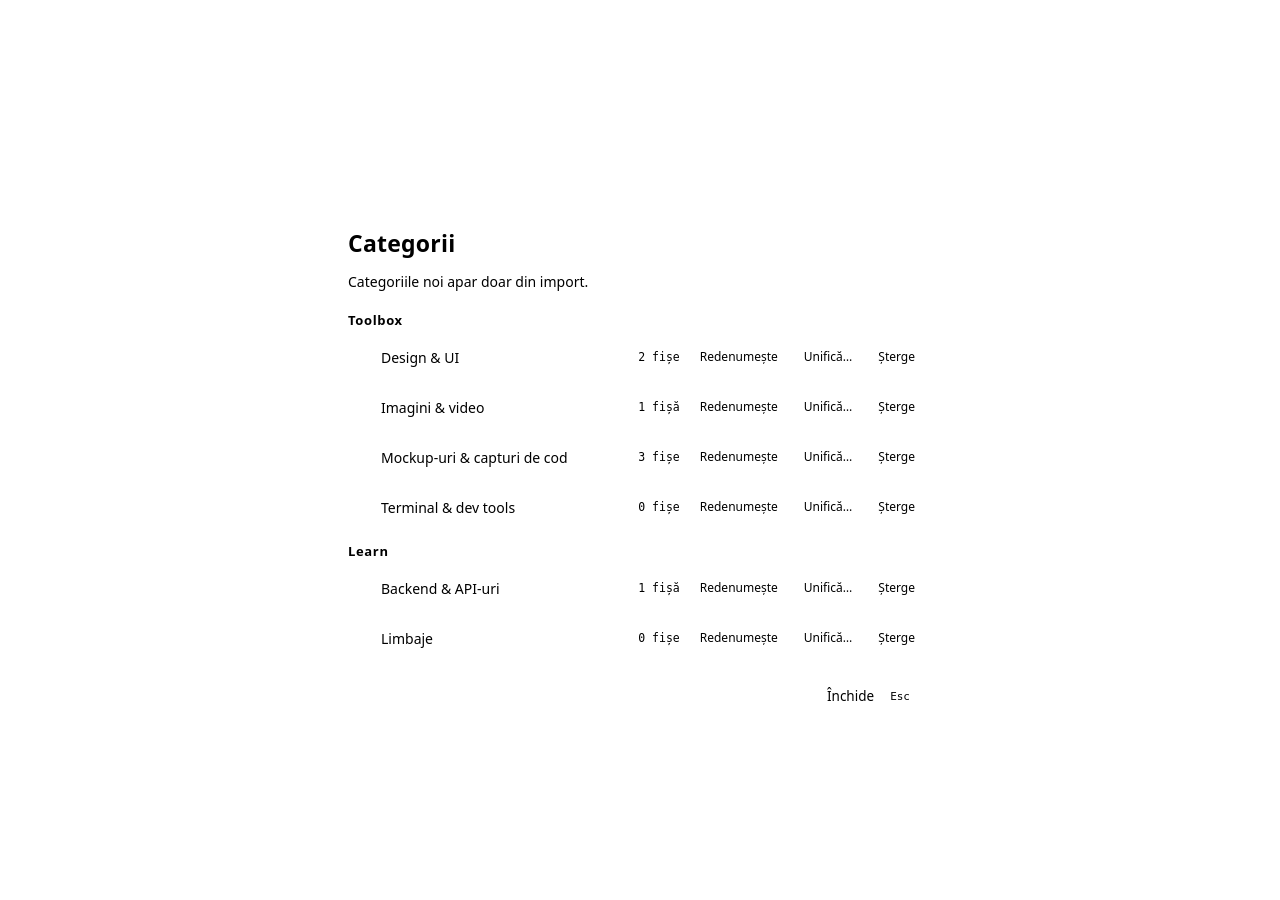
Scenario: CategoryManager: renaming in place › saves with Enter and returns the focus to „Redenumește”
Click the button "Redenumește" in the row of "Mockup-uri & capturi de cod". click: (739, 457)
box: [690,443,788,471]
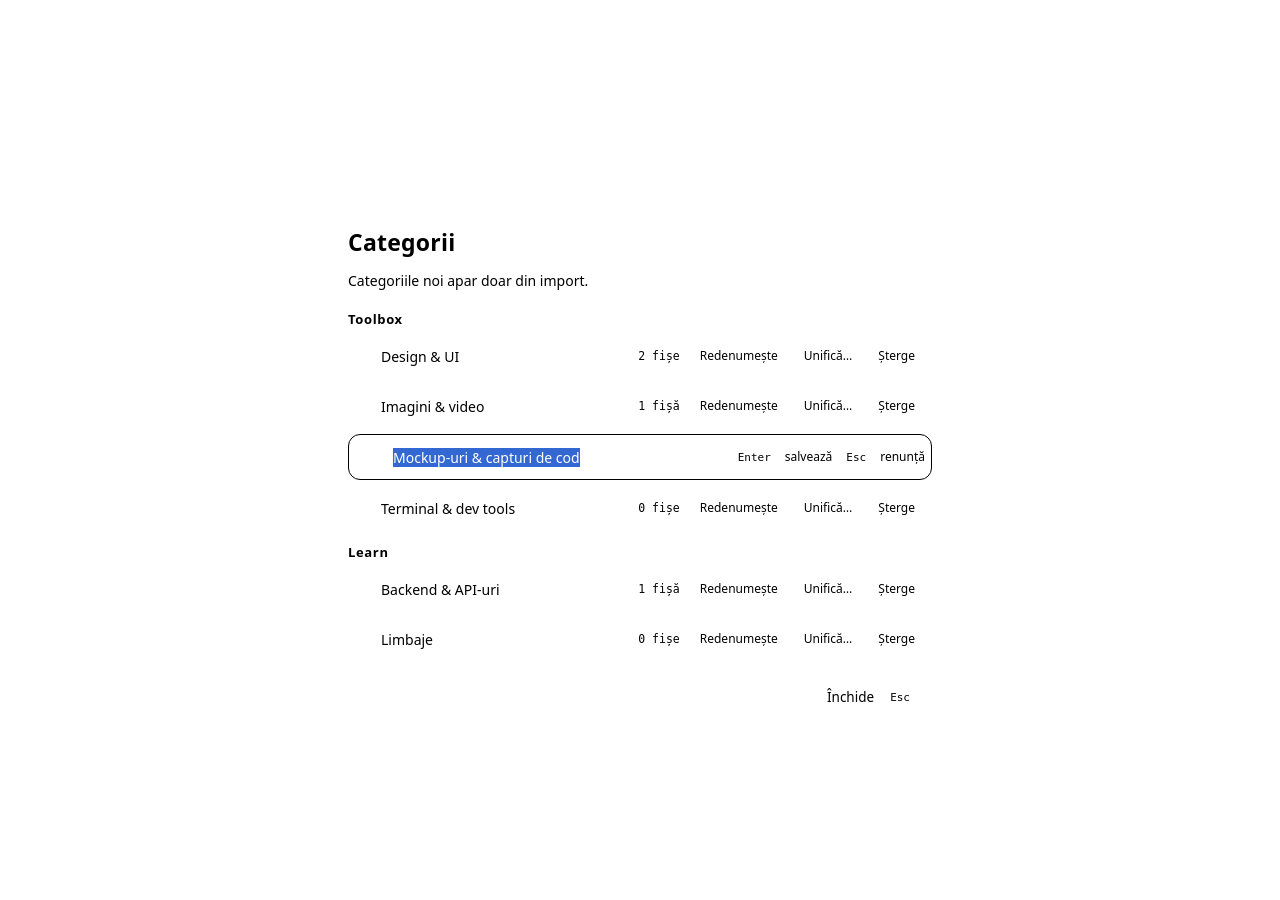
Replace the text in the field named "Numele categoriei" with " Mockup-uri ". click: (550, 457)
box: [381,439,720,475]
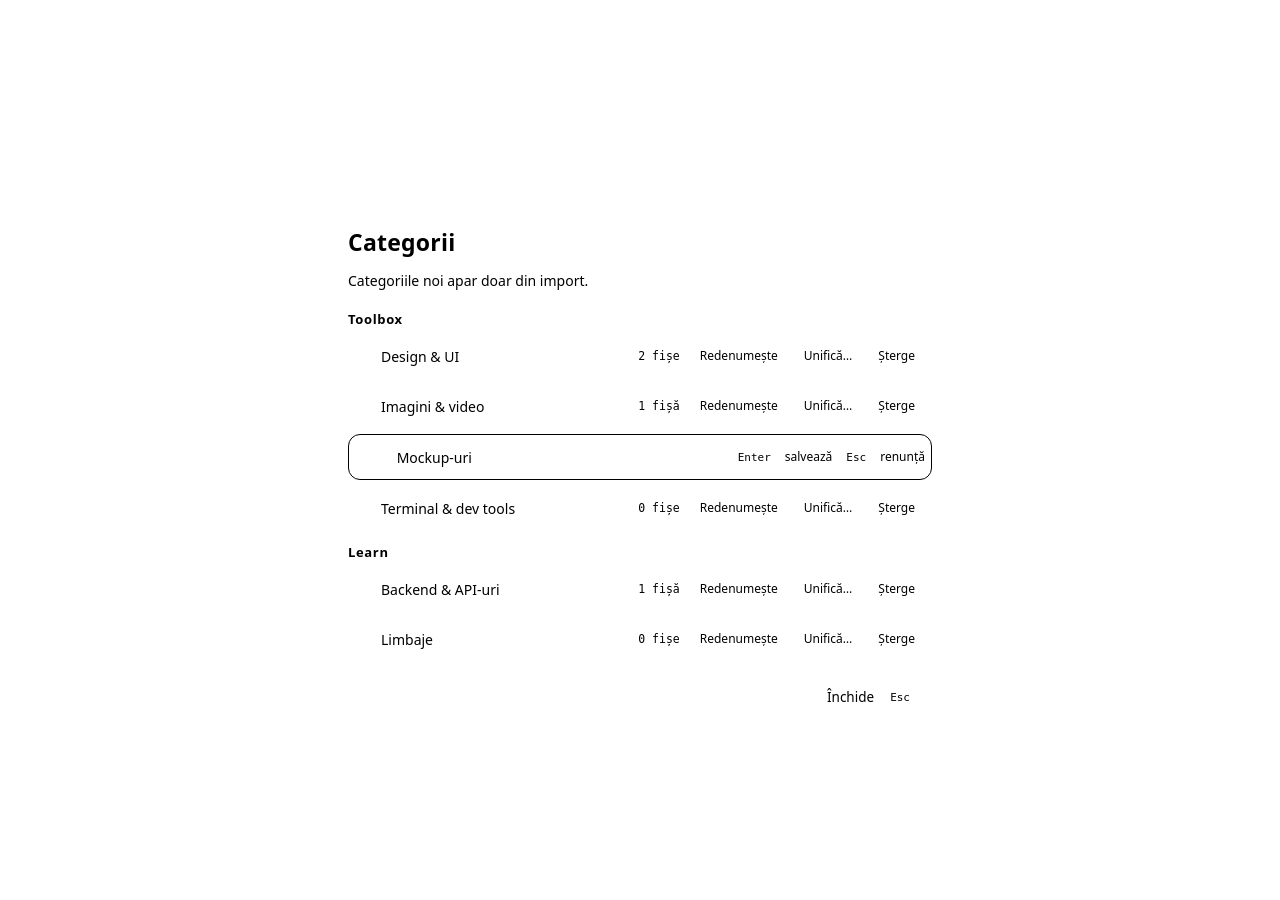
Press Enter in the field named "Numele categoriei", box [381,439,720,475]
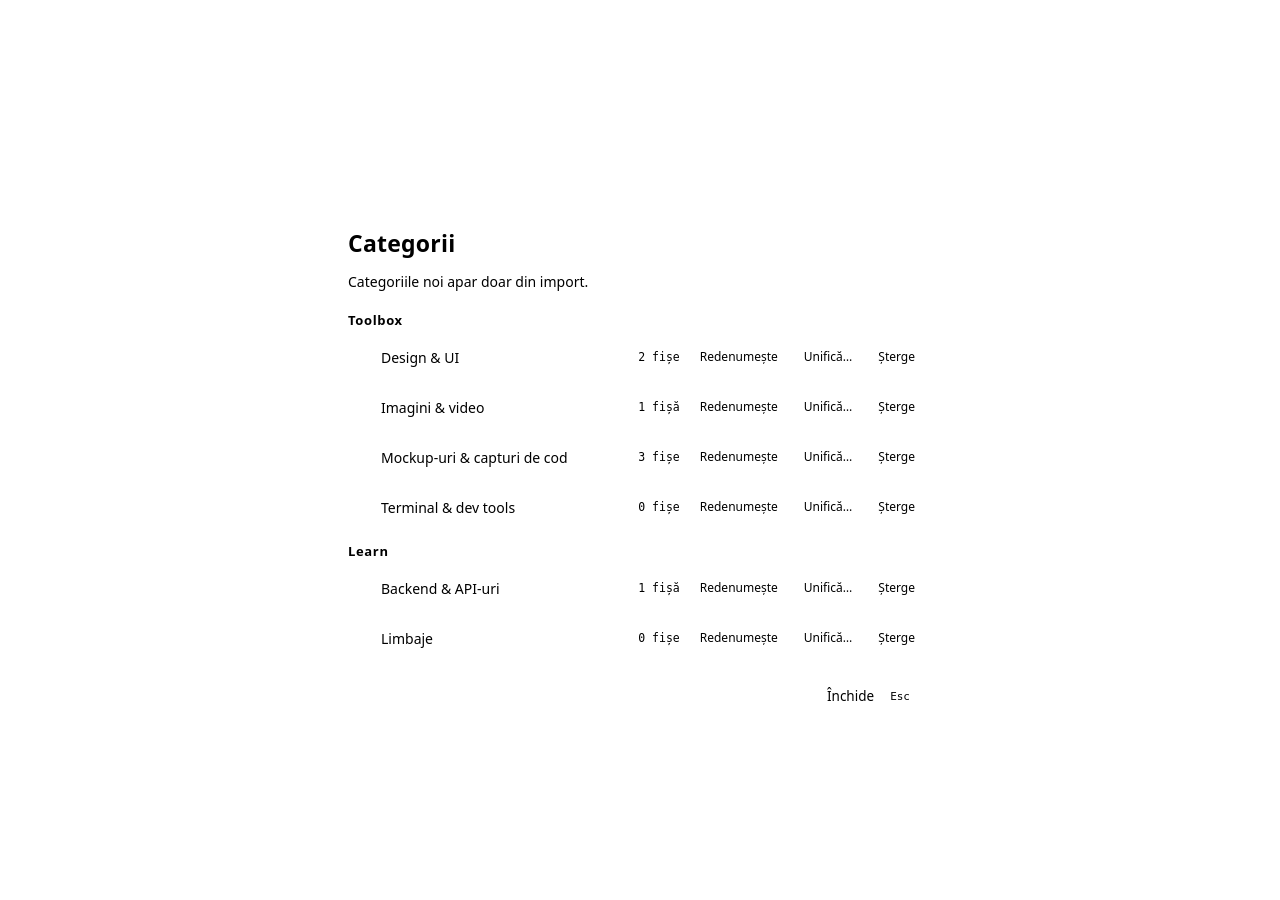
Check: the field is gone
